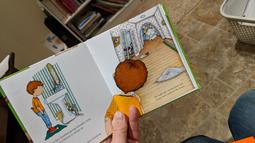text block: (147, 78, 190, 106), (45, 118, 93, 143), (80, 132, 103, 143)
